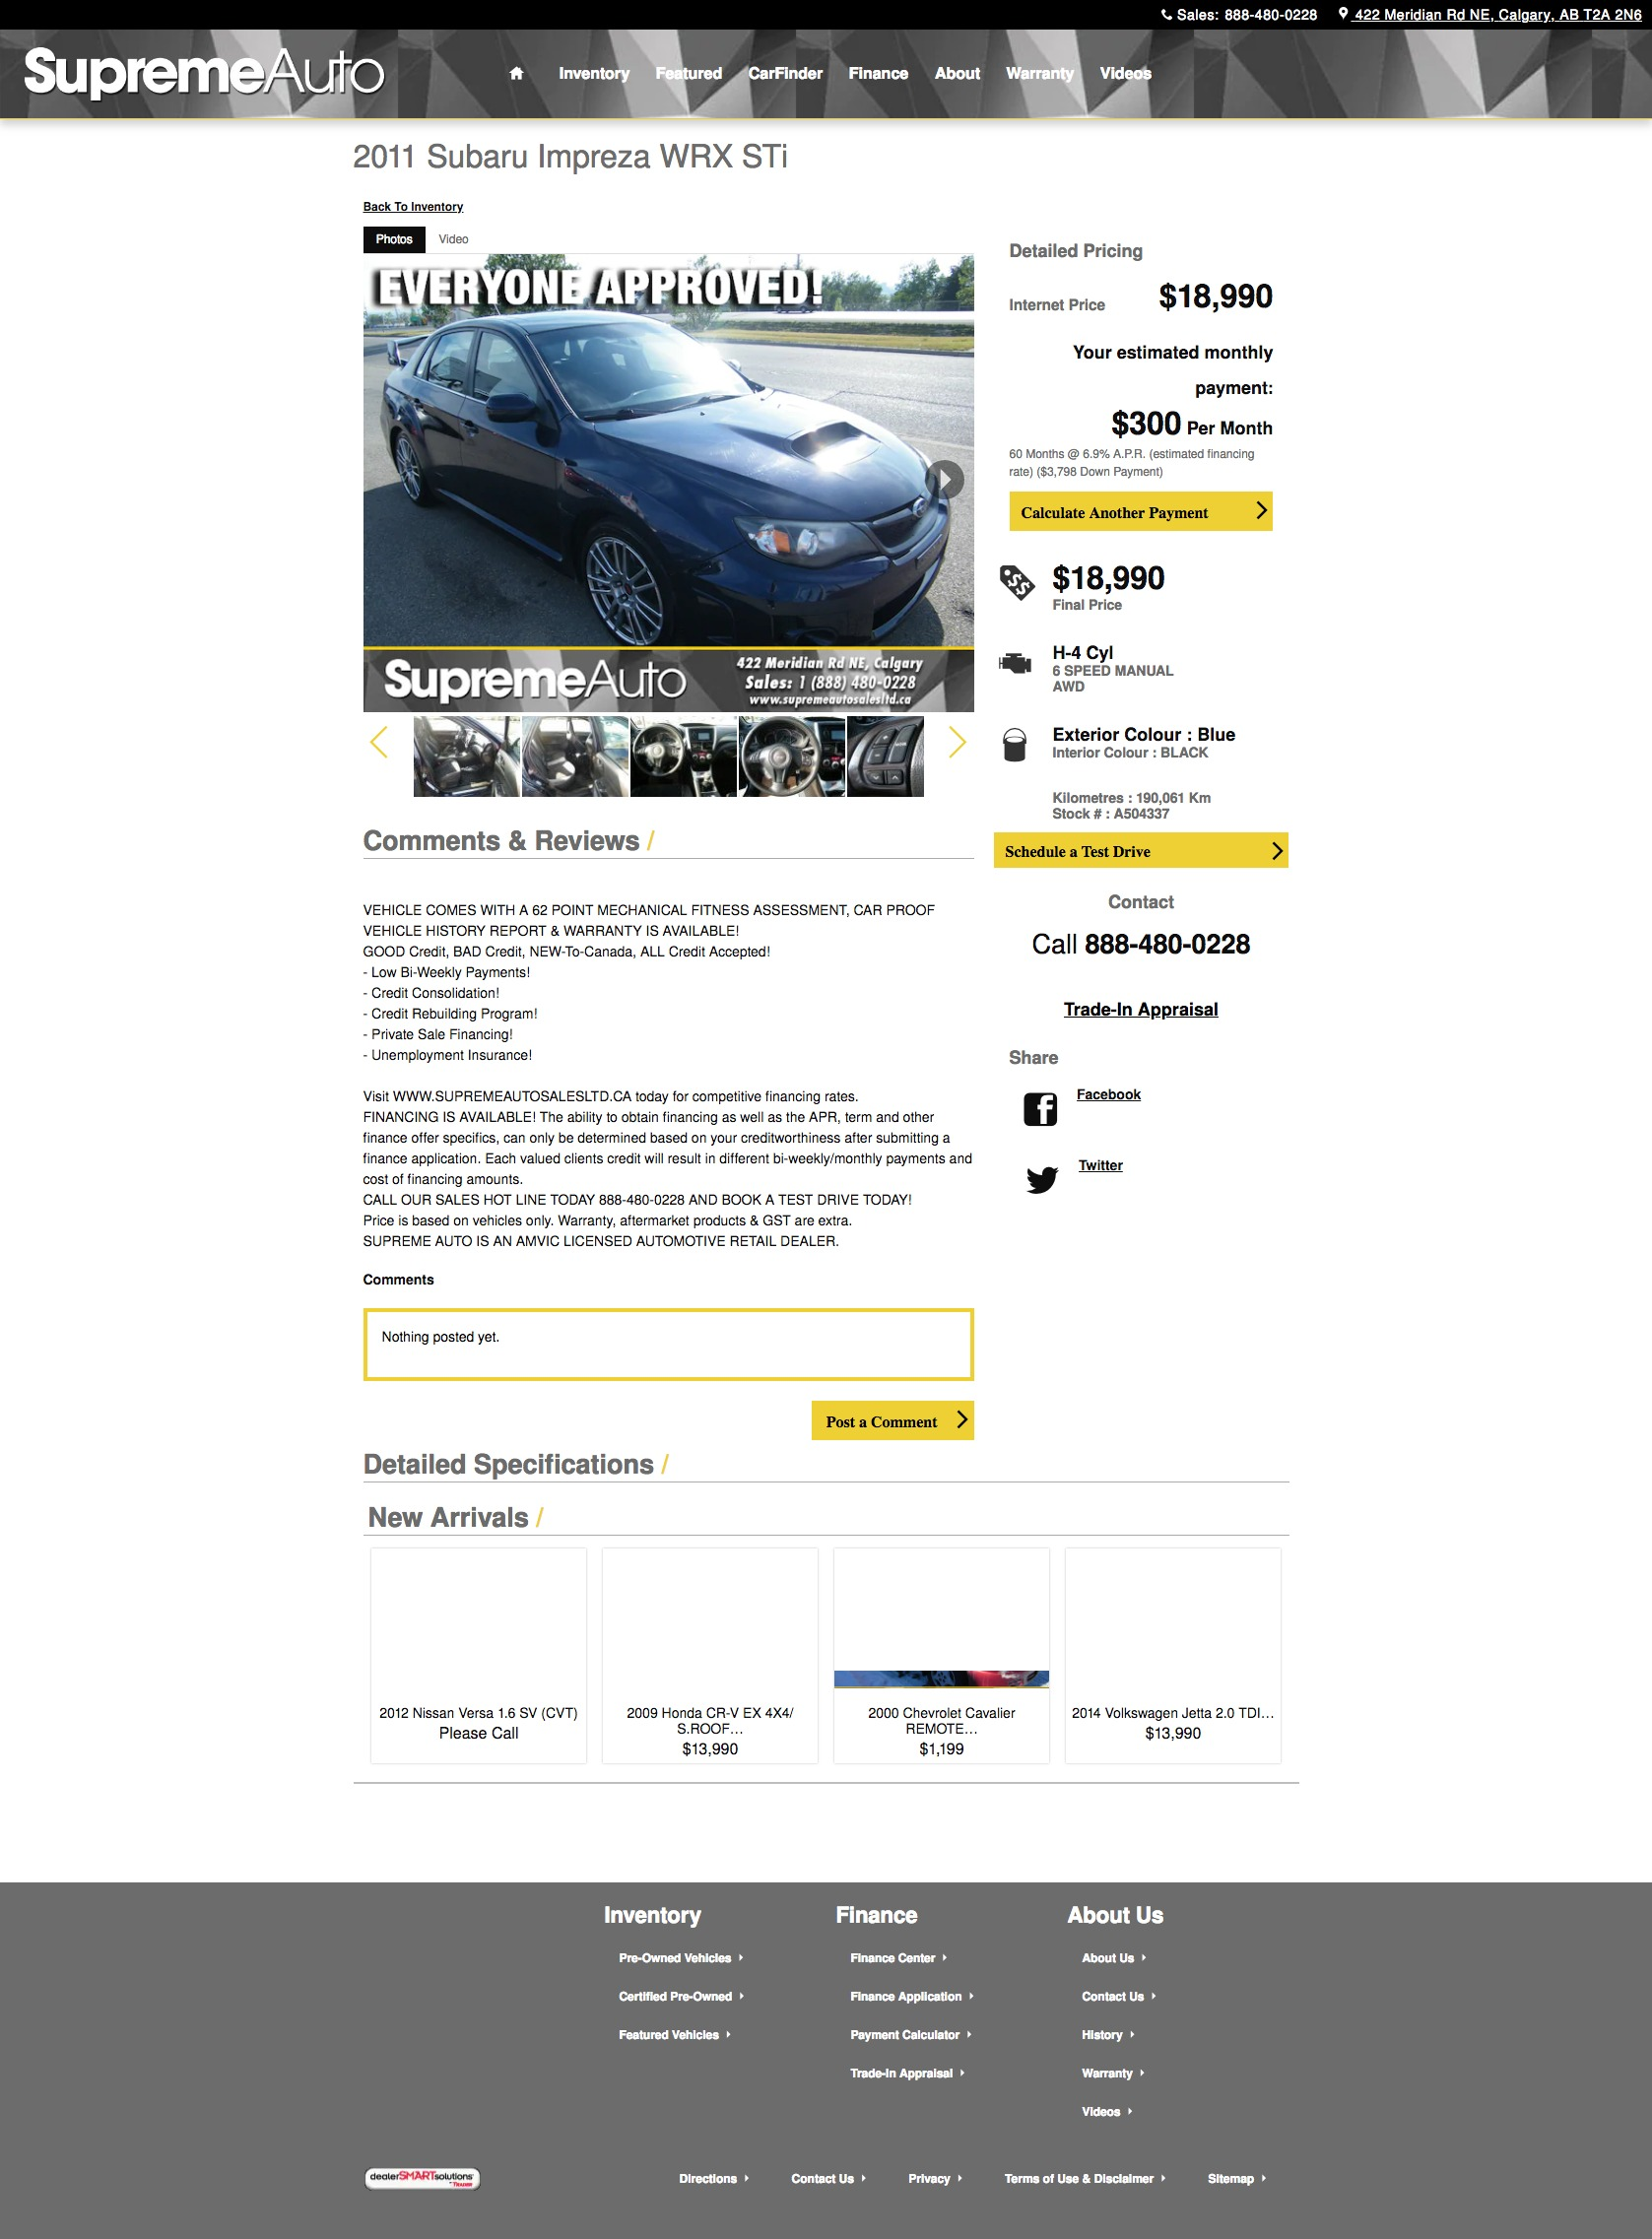car: (949, 725, 967, 758)
